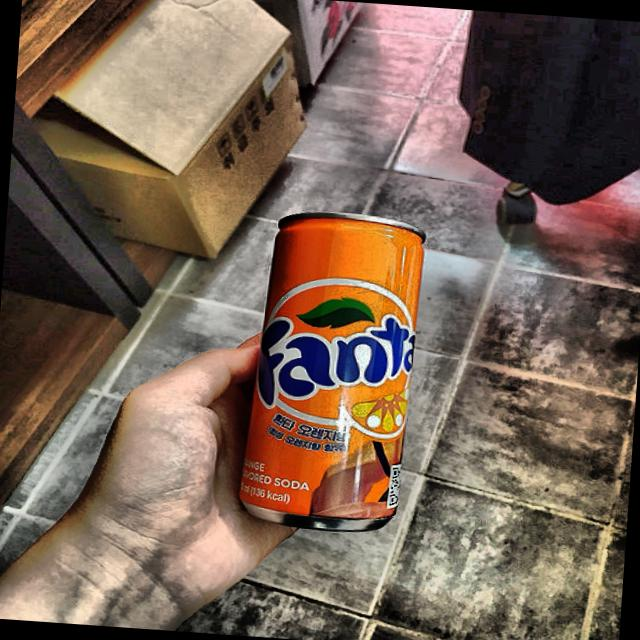fantaorange: (240, 202, 431, 540)
